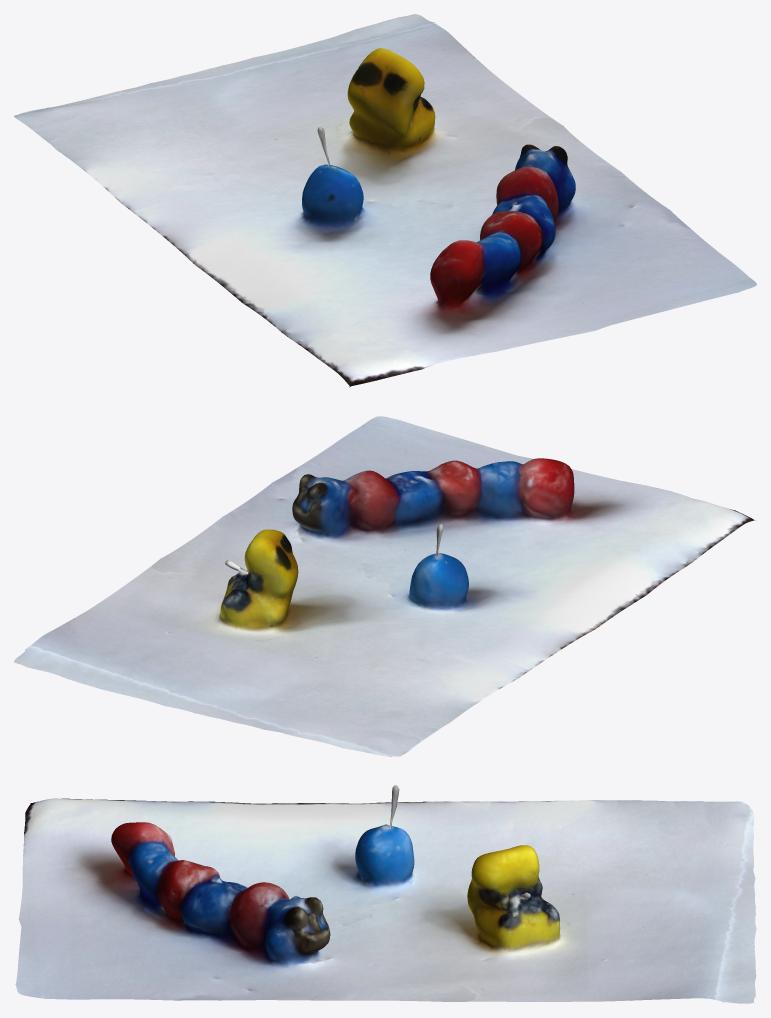
Rendered from Candles.fbx.
3 renders of one model, top to bottom at view 1: azimuth 30°, elevation 25°; view 2: azimuth 150°, elevation 25°; view 3: azimuth 270°, elevation 25°, orthographic. The views are drawn at different scales.
Parts seen in each view (by area): view 1: model; view 2: model; view 3: model.
Boxes of the visible parts, x1,y1,x2,y2 form: model: (14, 14, 756, 387); model: (14, 416, 754, 756); model: (15, 785, 756, 1003).
Bounding box in the file's own units: 295 × 60.73 × 439.
